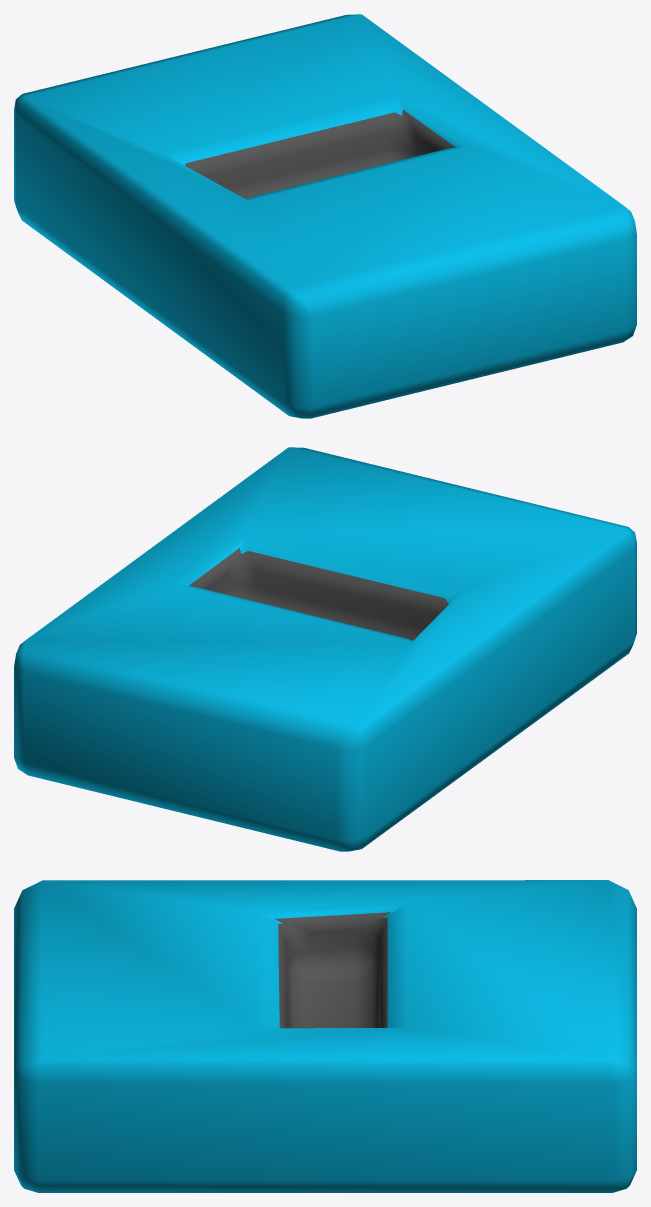
Rendered from decrease.glb.
3 views of the same model, one above another, from view 1: azimuth 30°, elevation 25°; view 2: azimuth 150°, elevation 25°; view 3: azimuth 270°, elevation 25° (orthographic). The views are drawn at different scales.
Parts seen in each view (by area): view 1: Cube; view 2: Cube; view 3: Cube.
Boxes of the visible parts, x1,y1,x2,y2 form: Cube: (14,14,636,418); Cube: (14,447,636,851); Cube: (14,880,636,1192).
Size of the model in its own units: 0.35 by 0.125 by 0.5.
